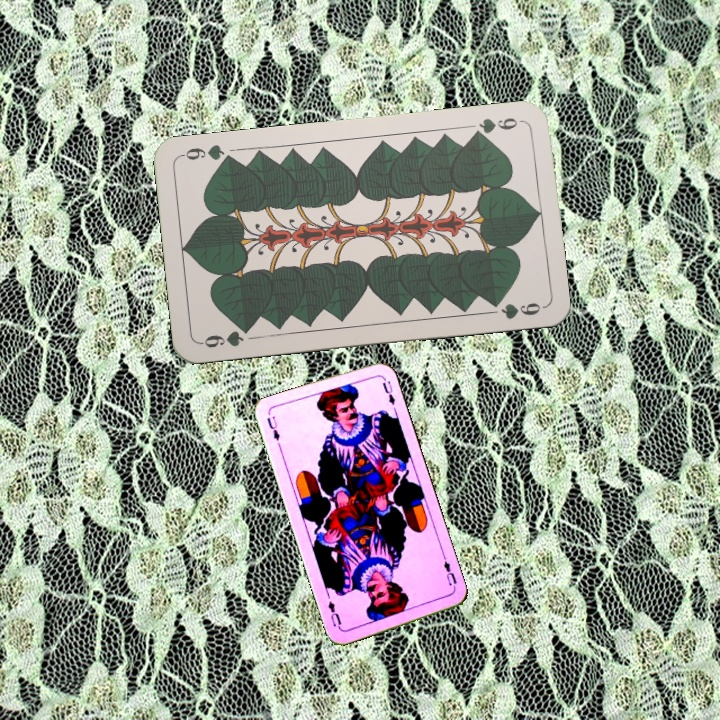EU: (439, 552, 459, 588), (263, 412, 282, 443)
G9: (197, 322, 255, 351), (467, 113, 525, 140)
